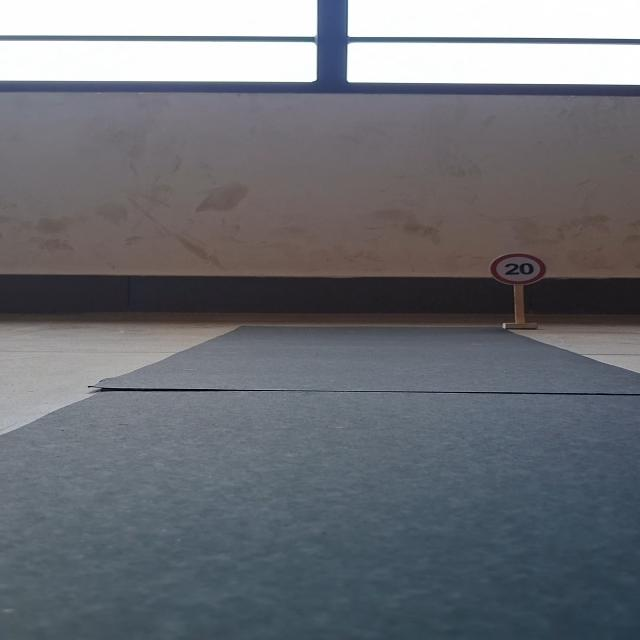Speed20: (486, 251, 550, 287)
